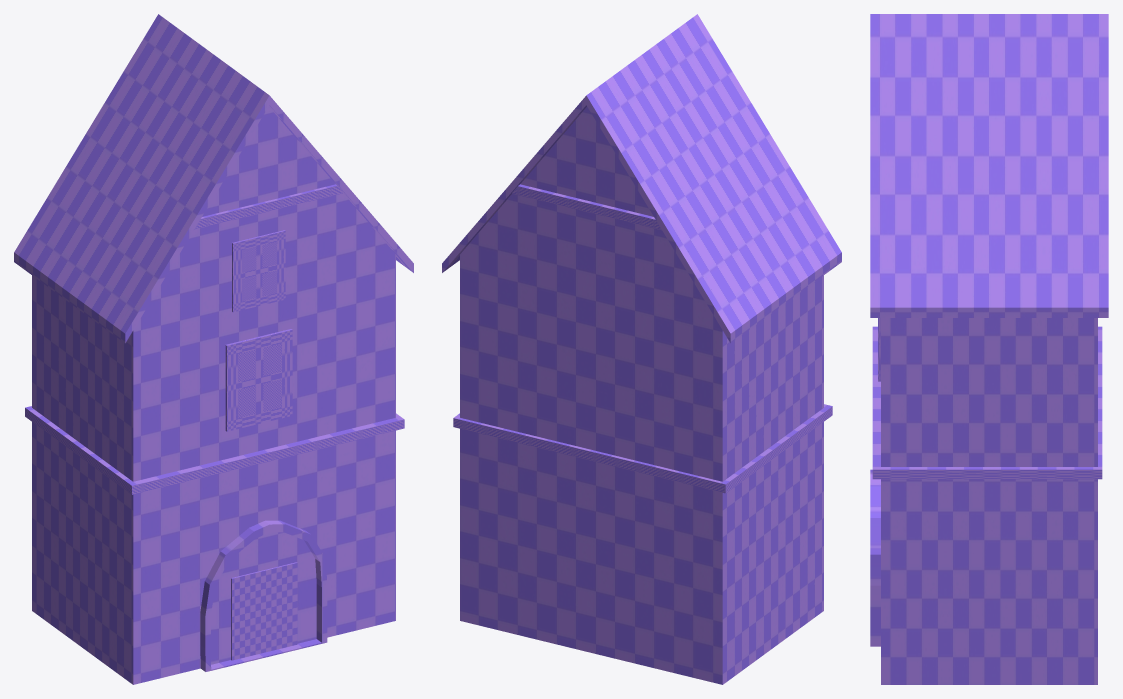
Rendered from Solbourg_Maison_2E.fbx.
The picture shows the model from 3 angles, left to right: view 1: azimuth 30°, elevation 25°; view 2: azimuth 150°, elevation 25°; view 3: azimuth 270°, elevation 25°; orthographic projection. The views are drawn at different scales.
Parts seen in each view (by area): view 1: Base, Toit, Fenetre, Porte; view 2: Base, Toit; view 3: Base, Toit.
Boxes of the visible parts, box(x1,y1,x2,y2) form: Base: box(25, 107, 404, 684); Toit: box(14, 14, 413, 343); Fenetre: box(225, 230, 292, 431); Porte: box(231, 562, 297, 660); Base: box(453, 107, 832, 684); Toit: box(442, 14, 841, 343); Base: box(870, 318, 1102, 684); Toit: box(870, 14, 1108, 317).
Bounding box in the file's own units: 659 × 1225 × 440.
Materials: 3 (3 with a texture image).
